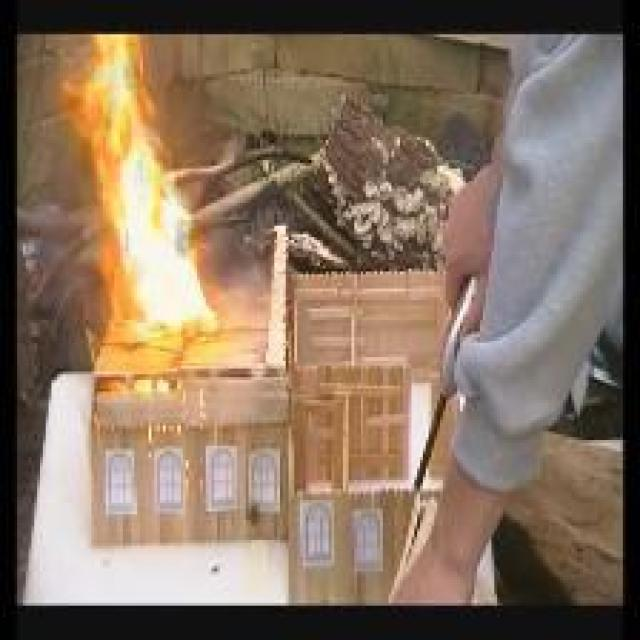fire: (53, 42, 214, 335)
